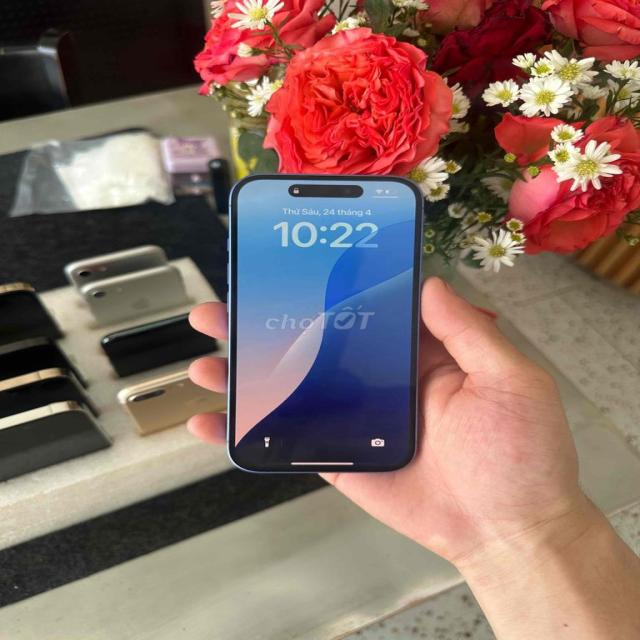gen_16: (227, 174, 423, 474)
